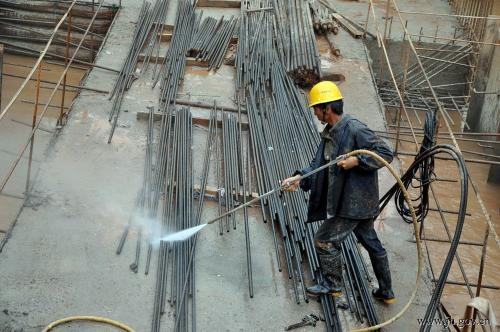boots: (306, 281, 342, 297), (372, 287, 396, 303)
hard-hat: (308, 80, 344, 108)
person: (281, 79, 396, 306)
